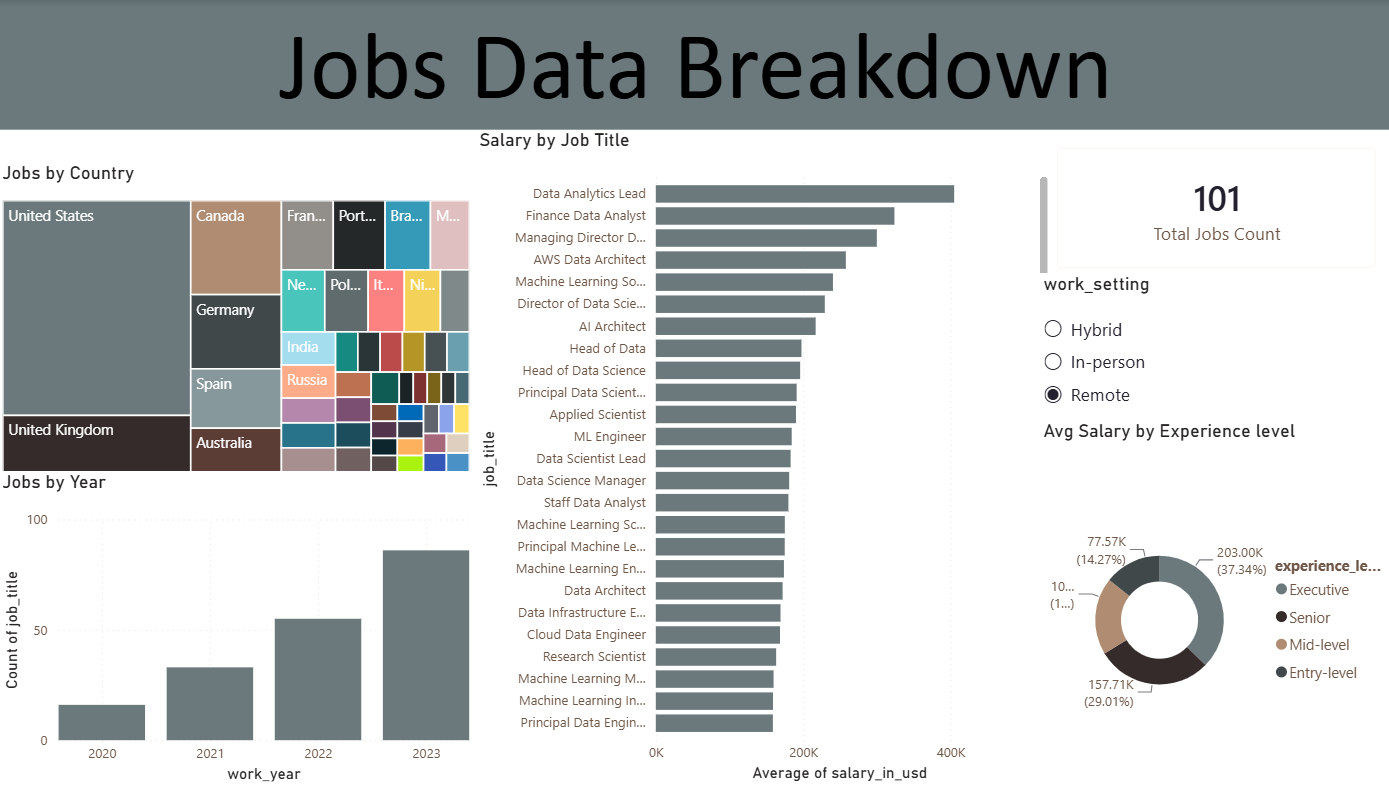

Layout of this report page (visuals, bound fields, positions):
{"tool":"powerbi","page":{"name":"Page 1","canvas":[1280,720],"ordinal":0},"visuals":[{"type":"cardVisual","fields":{"Data":["Count(jobs_in_data.job_title)"]},"box":[952.8,118.5,326.7,144.4],"z":0},{"type":"treemap","title":"Jobs by Country","fields":{"Group":["jobs_in_data.company_location"],"Values":["Count(jobs_in_data.job_title)"]},"box":[0,147.5,436.8,289.3],"z":1000},{"type":"clusteredBarChart","title":"Salary by Job Title","fields":{"Category":["jobs_in_data.job_title"],"Y":["Avg(jobs_in_data.salary_in_usd)"]},"box":[436.8,118.4,530,601.8],"z":2000},{"type":"donutChart","title":"Avg Salary by Experience level","fields":{"Category":["jobs_in_data.experience_level"],"Y":["Avg(jobs_in_data.salary_in_usd)"]},"box":[505.7,180.2,326.7,335.8],"z":3000},{"type":"columnChart","title":"Jobs by Year","fields":{"Category":["jobs_in_data.work_year"],"Y":["Count(jobs_in_data.job_title)"]},"box":[0,431,436.8,289.3],"z":4000},{"type":"listSlicer","fields":{"Values":["jobs_in_data.work_setting"]},"box":[952.8,249.2,313,135.2],"z":5000},{"type":"textbox","box":[0,0,1279.4,118.4],"z":6000}]}

Visuals, with their boxes in screenshot pixels (x1, y1, x2, y2), scaled from the page's 1280x720 canvas onto the 1389x787 screenshot:
cardVisual - Count(jobs_in_data.job_title): 1034, 130, 1388, 287
"Jobs by Country" treemap: 0, 161, 474, 477
"Salary by Job Title" clusteredBarChart: 474, 129, 1049, 786
"Avg Salary by Experience level" donutChart: 549, 197, 903, 564
"Jobs by Year" columnChart: 0, 471, 474, 786
listSlicer - jobs_in_data.work_setting: 1034, 272, 1374, 420
textbox: 0, 0, 1388, 129
